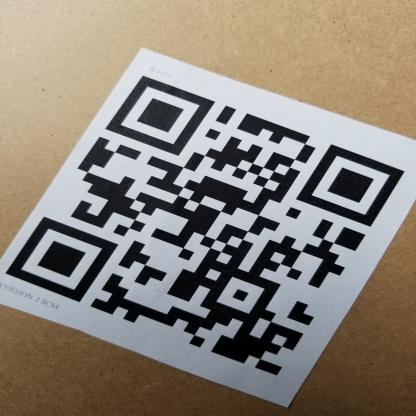qr: (4, 71, 408, 381)
